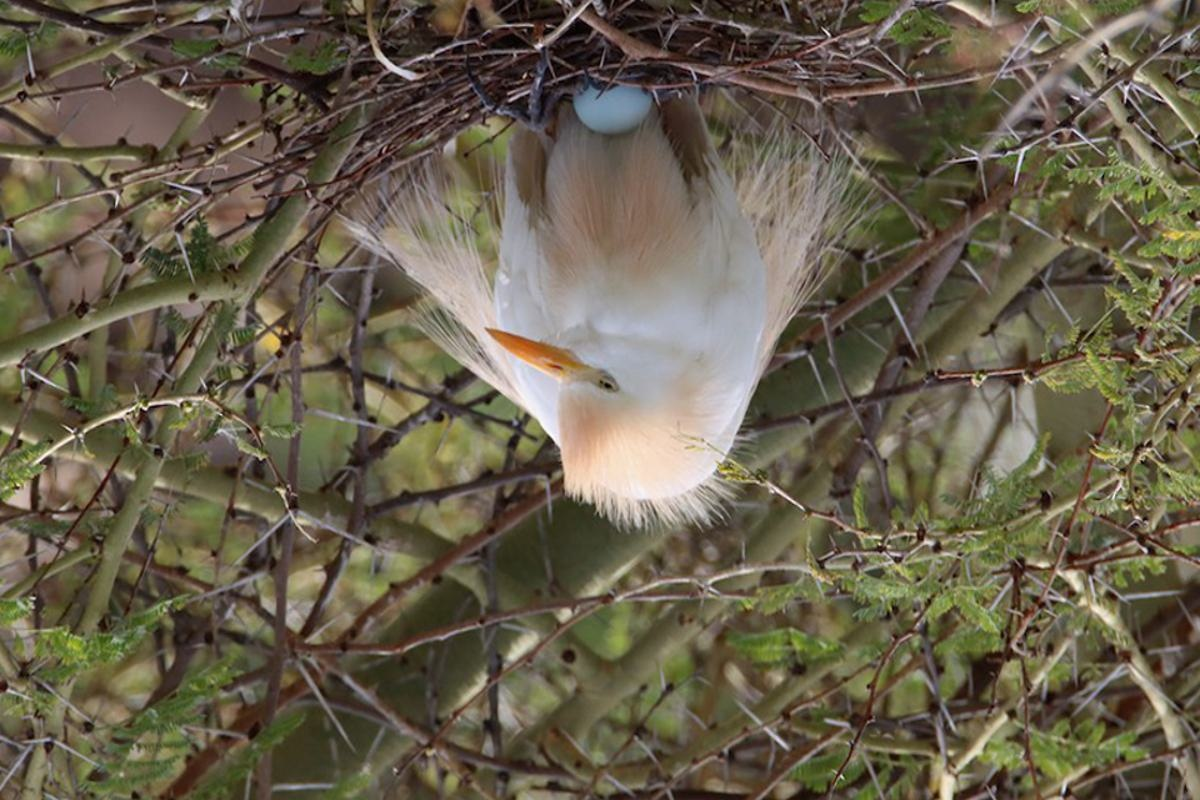egret: (387, 25, 915, 540)
